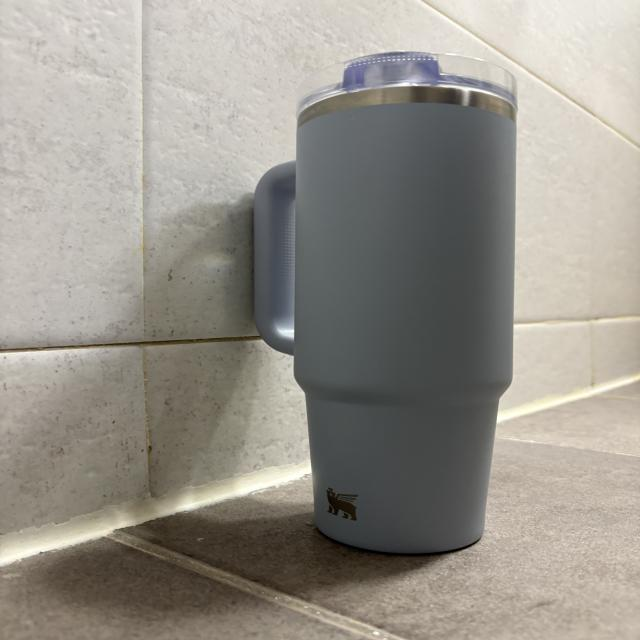waterbottle: (252, 49, 514, 552)
